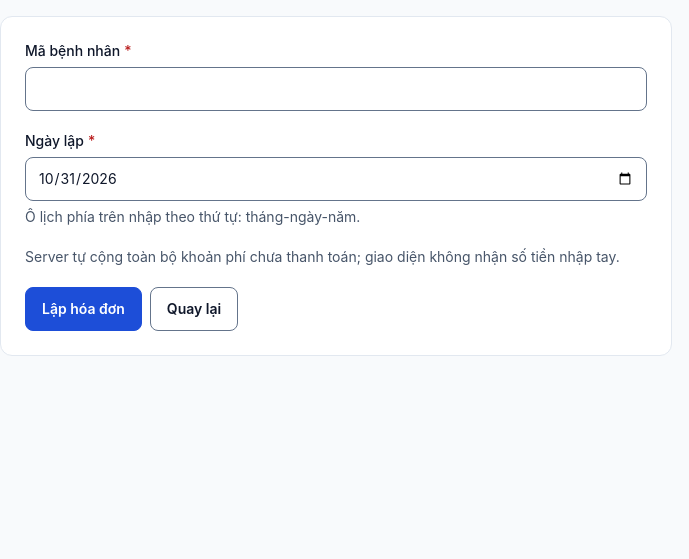
Test case: InvoiceForm › locks the form after an uncertain outcome until the cashier looks up the invoice
This screenshot has width=689, height=559.
Type "00000000-0000-4000-8000-000000000001" into the field labelled "Mã bệnh nhân" at [336, 89], box [25,67,647,111]
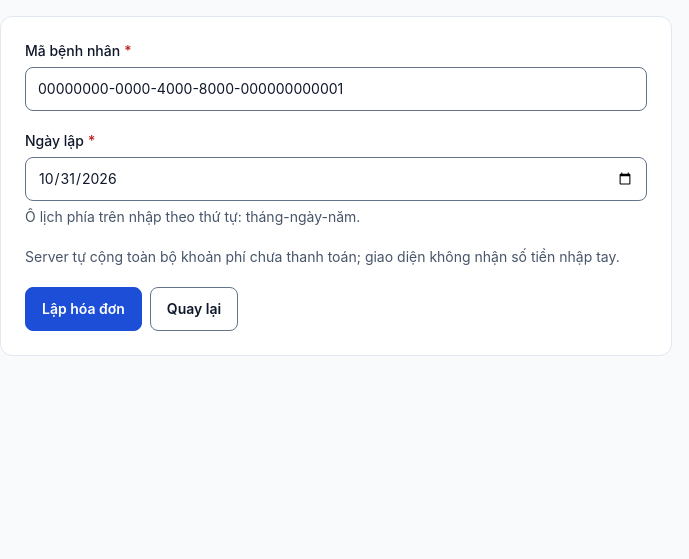
Click the button "Lập hóa đơn" at [83, 309], box [25,287,142,331]
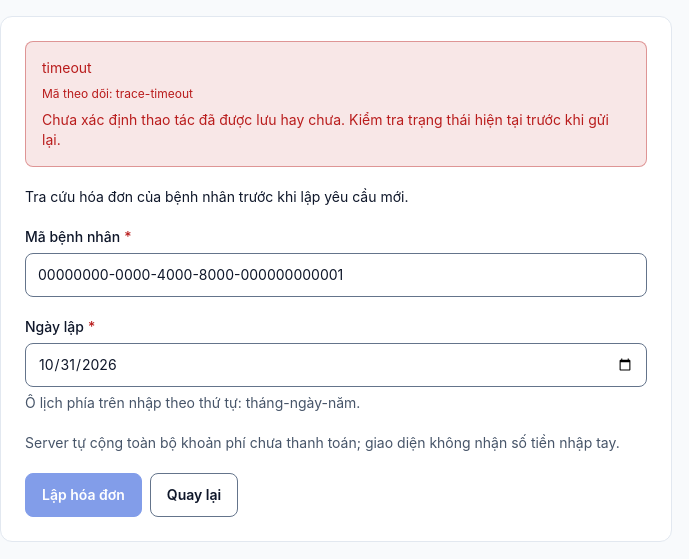
Now the text "Tra cứu hóa đơn của bệnh nhân trước khi lập yêu cầu mới." is shown, box [25,188,408,205]
Now the button "Lập hóa đơn" is disabled, box [25,473,142,517]
